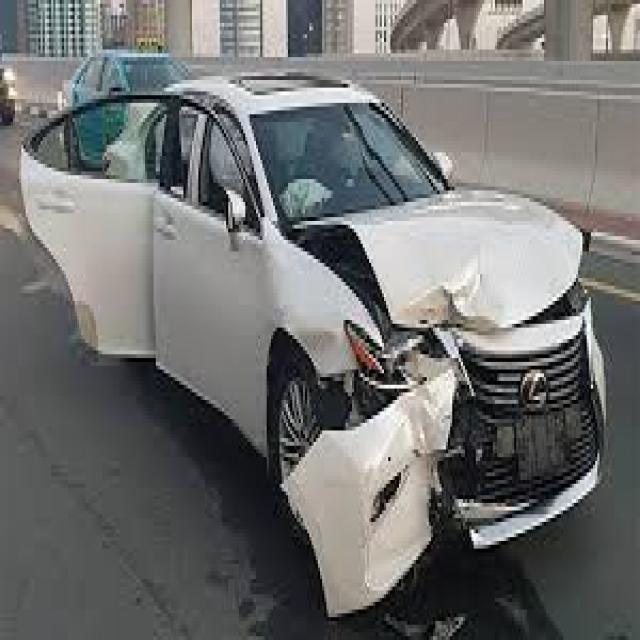accident: (201, 44, 595, 600)
